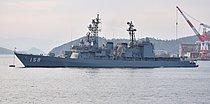MIL_Ship: (13, 15, 199, 68)
